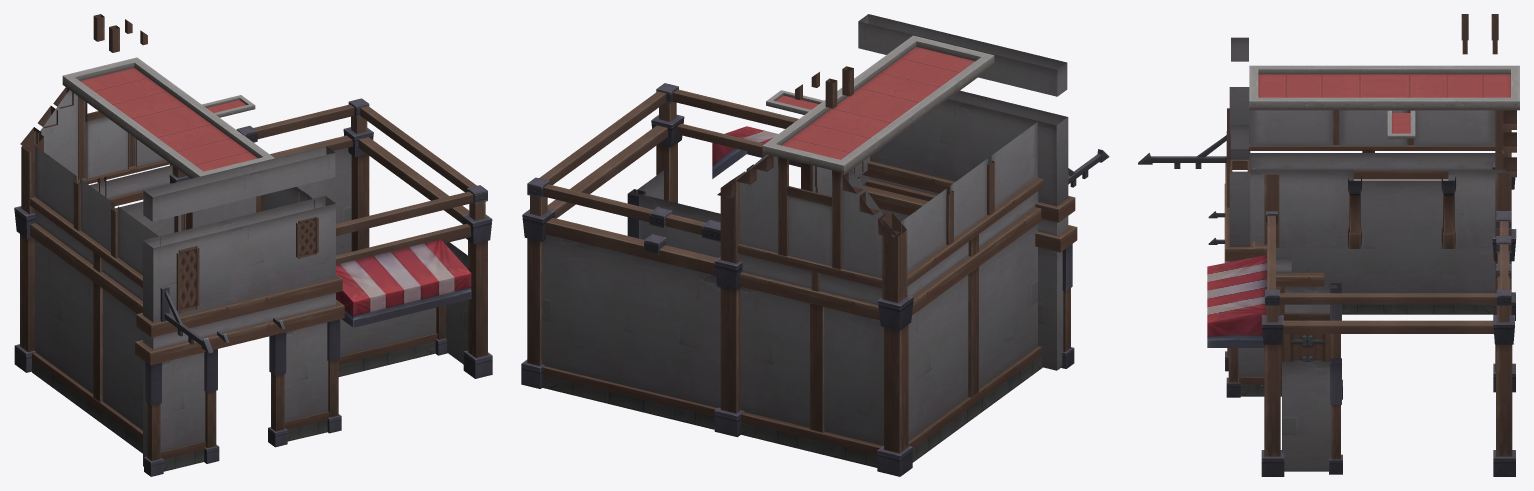
Rendered from scene_luoliante_wqd_01.FBX.
3 renders of one model, left to right at view 1: azimuth 30°, elevation 25°; view 2: azimuth 150°, elevation 25°; view 3: azimuth 270°, elevation 25°, orthographic. The views are drawn at different scales.
Visible parts, largest first — view 1: scene_luoliante_wqd_01; view 2: scene_luoliante_wqd_01; view 3: scene_luoliante_wqd_01.
Part boxes in pixels (bbox=[...]): scene_luoliante_wqd_01: bbox=[14, 14, 492, 476]; scene_luoliante_wqd_01: bbox=[521, 14, 1109, 476]; scene_luoliante_wqd_01: bbox=[1138, 14, 1519, 476].
Size of the model in its own units: 594 by 533 by 556.
